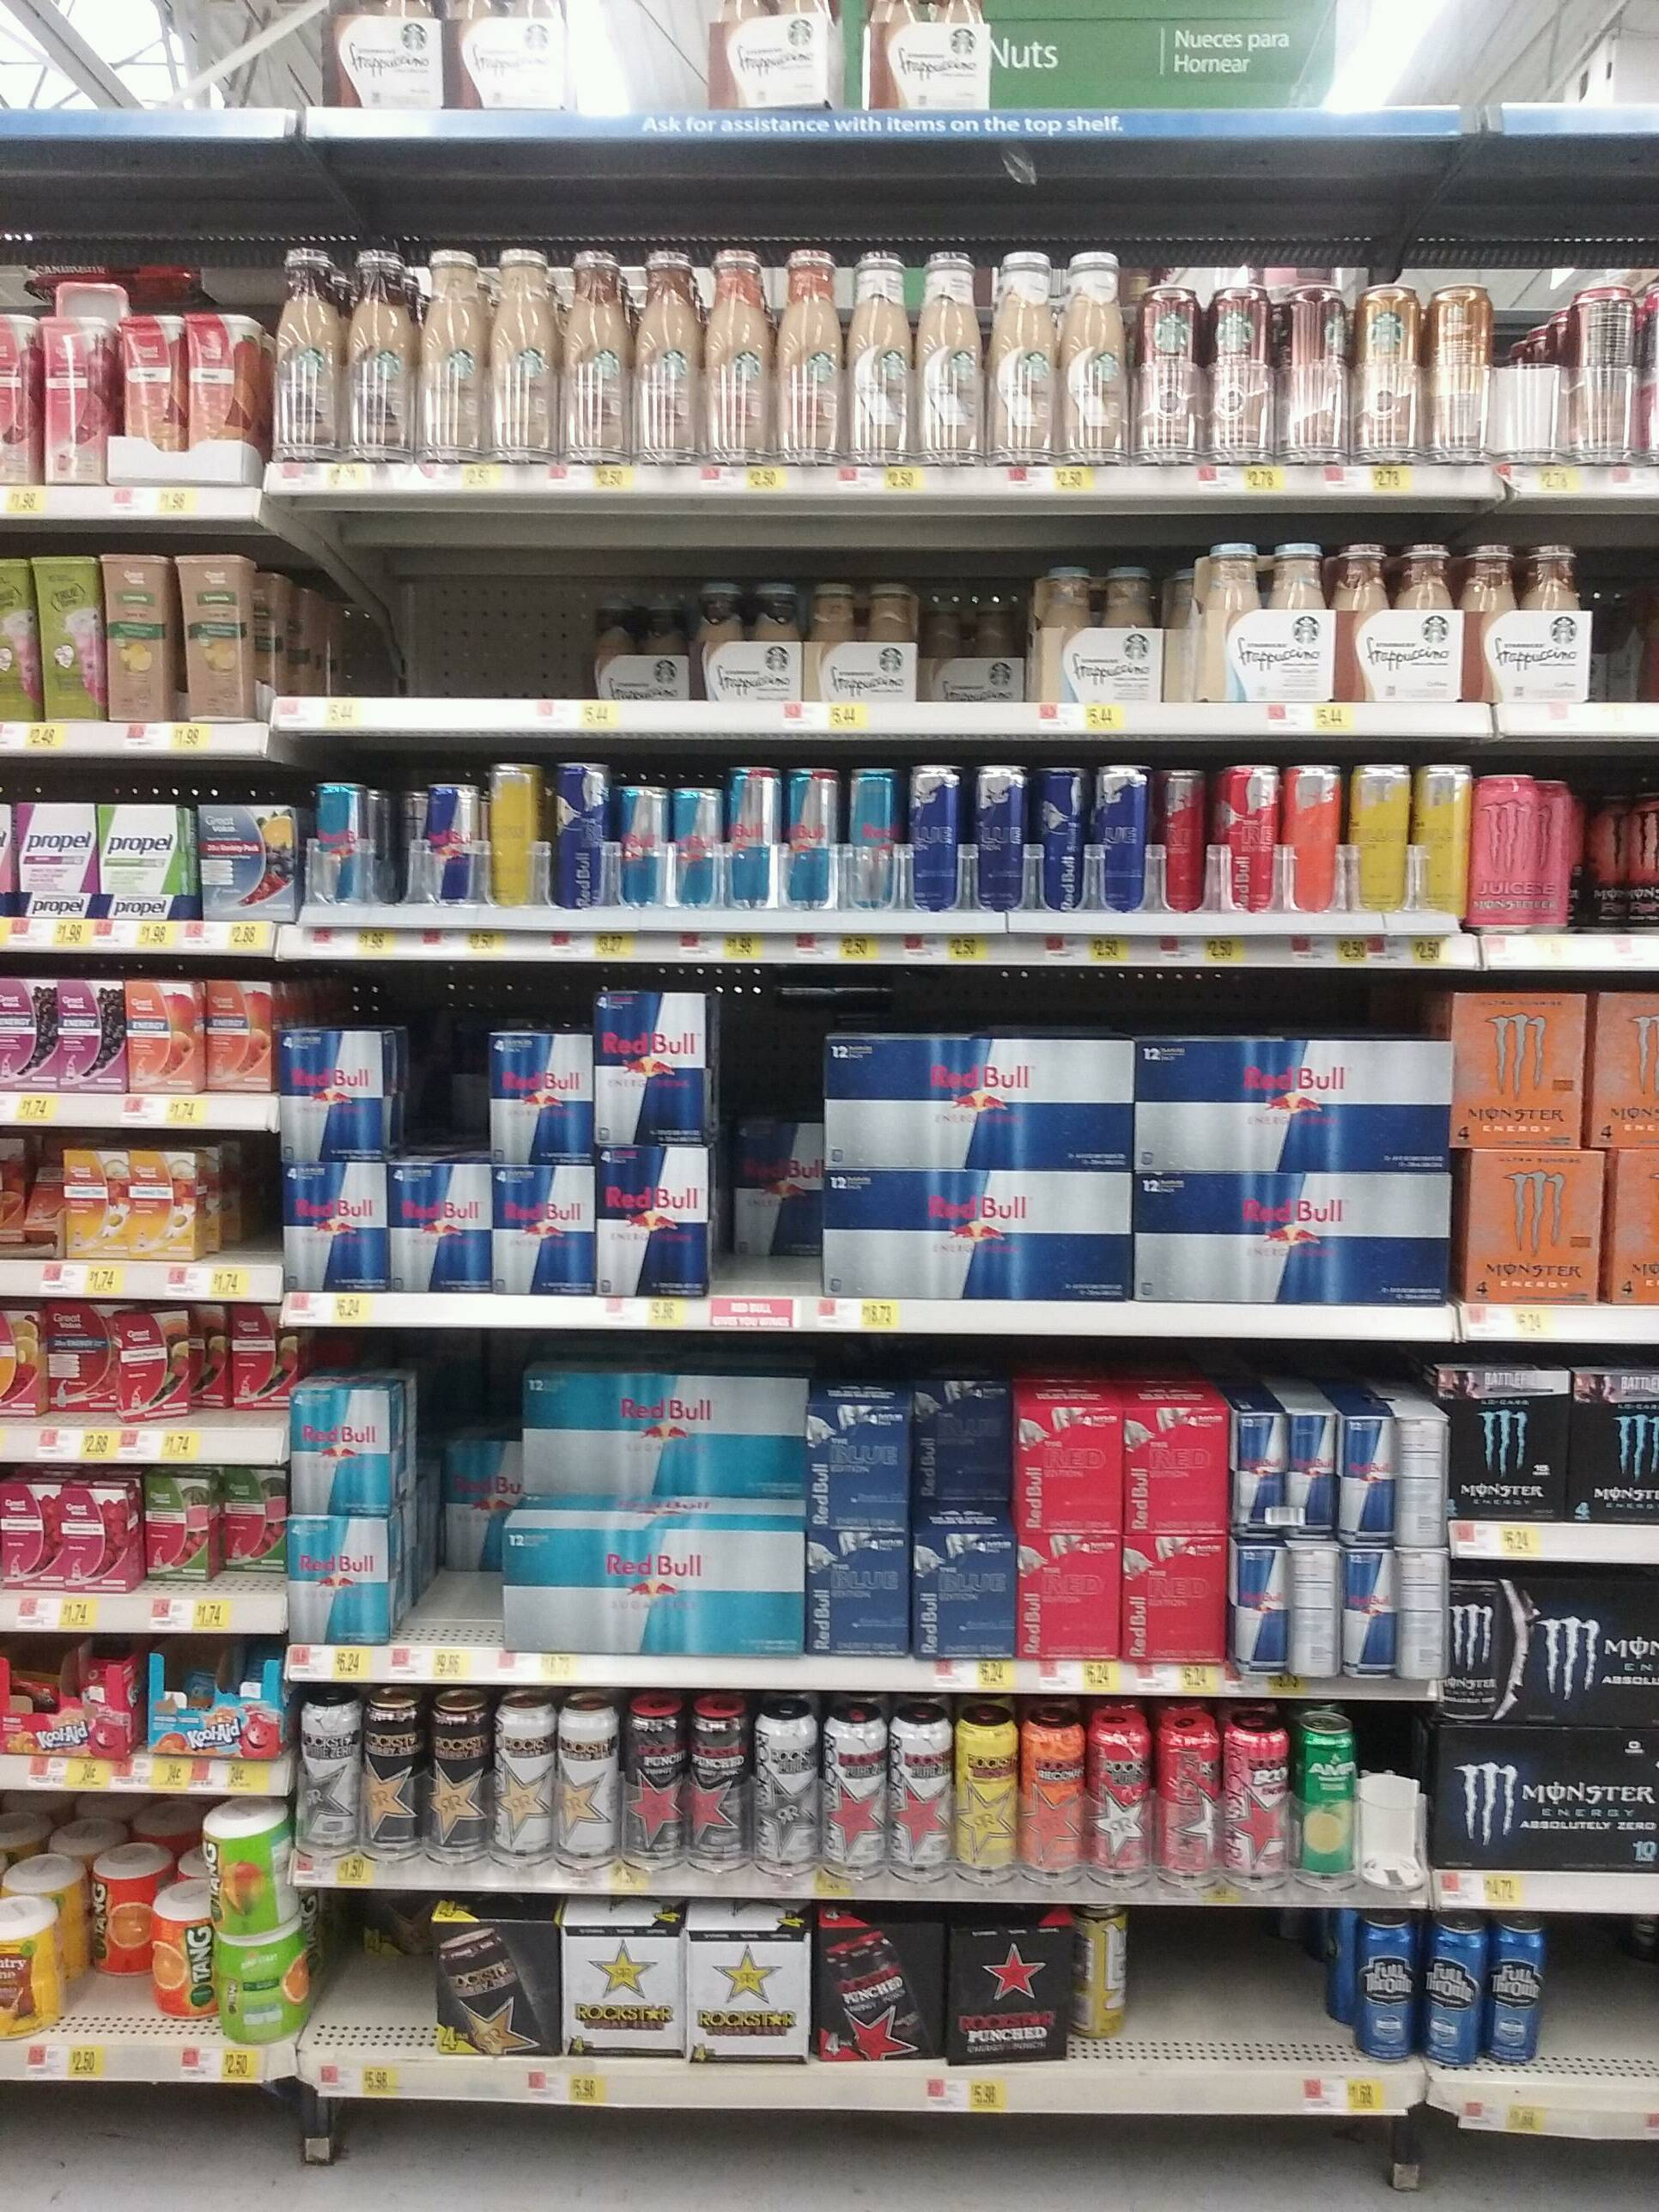Misplacement: (725, 1097, 828, 1299)
Out-of-stock: (394, 571, 594, 700)
